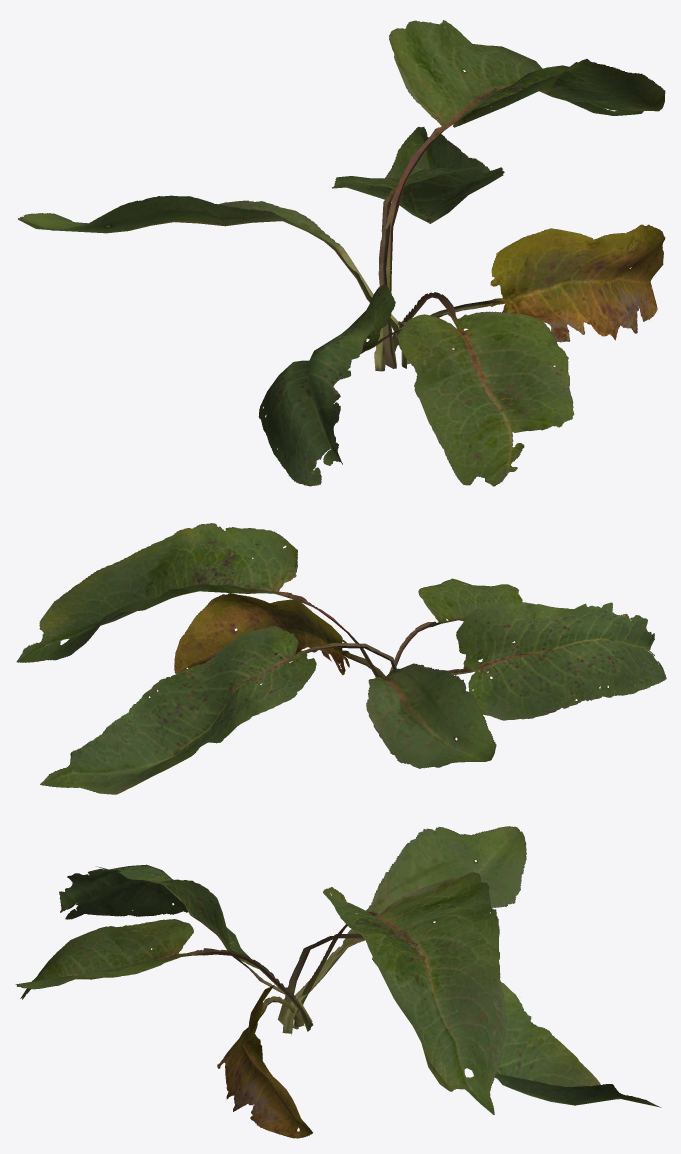
3 views of the same model, one above another, from view 1: azimuth 30°, elevation 25°; view 2: azimuth 150°, elevation 25°; view 3: azimuth 270°, elevation 25° (orthographic). The views are drawn at different scales.
Parts seen in each view (by area): view 1: weed_plant_02__b_lod0; view 2: weed_plant_02__b_lod0; view 3: weed_plant_02__b_lod0.
Part boxes in pixels (box(x1,y1,x2,y2)): weed_plant_02__b_lod0: box(18, 20, 665, 486); weed_plant_02__b_lod0: box(16, 523, 666, 794); weed_plant_02__b_lod0: box(15, 826, 661, 1138).
Bounding box in the file's own units: 0.1938 × 0.0715 × 0.2044.
1 material, 1 textured.
